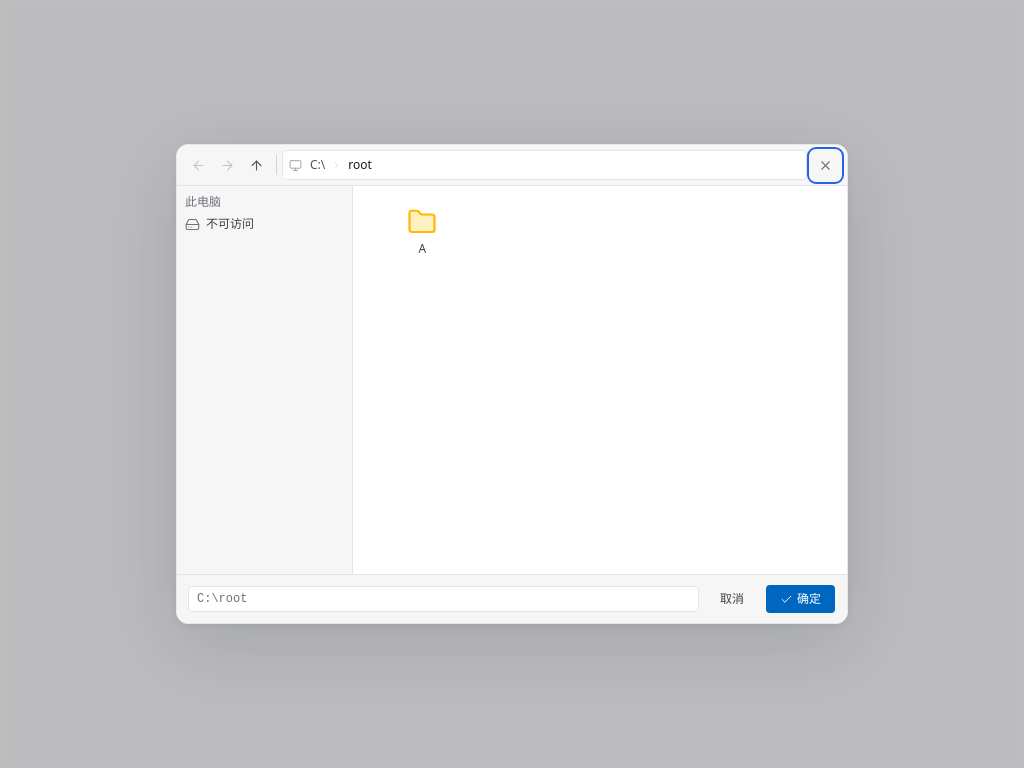
Scenario: failed navigation does not change history or confirm a stale path while loading
Expected: the button "A" is shown, [365, 198, 480, 265]
Click the button "不可访问" at [264, 224], box [177, 212, 352, 236]
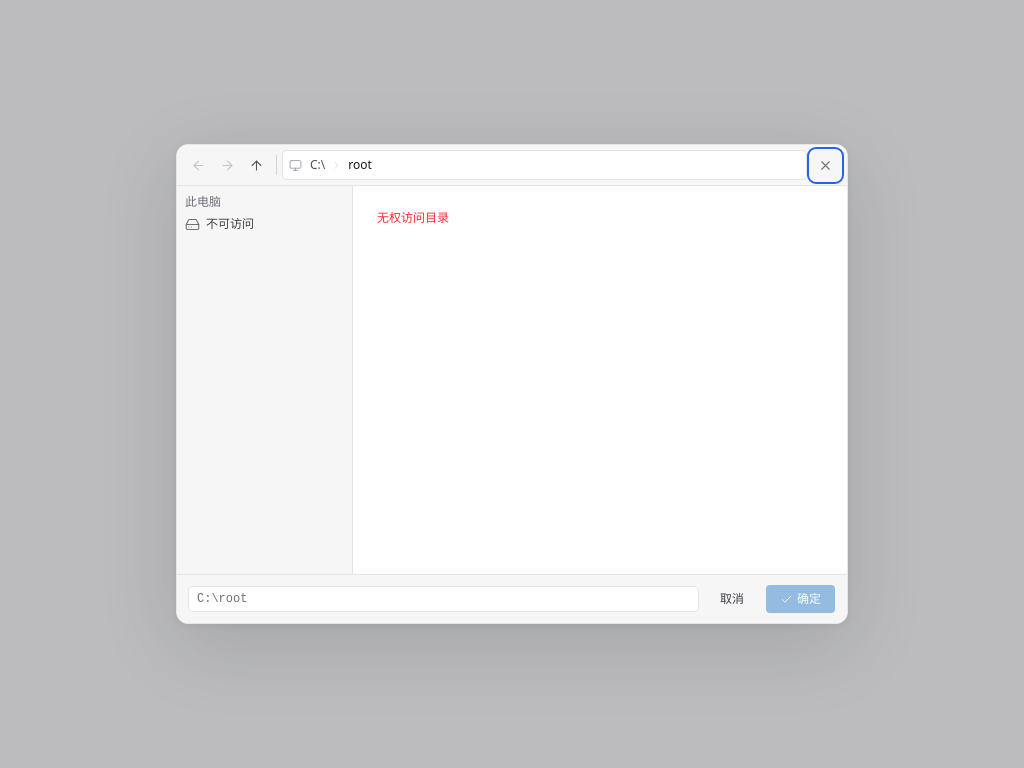
Expected: the button "root" is shown, [344, 155, 376, 175]
Expected: the text "无权访问目录" is shown, [377, 209, 449, 226]
